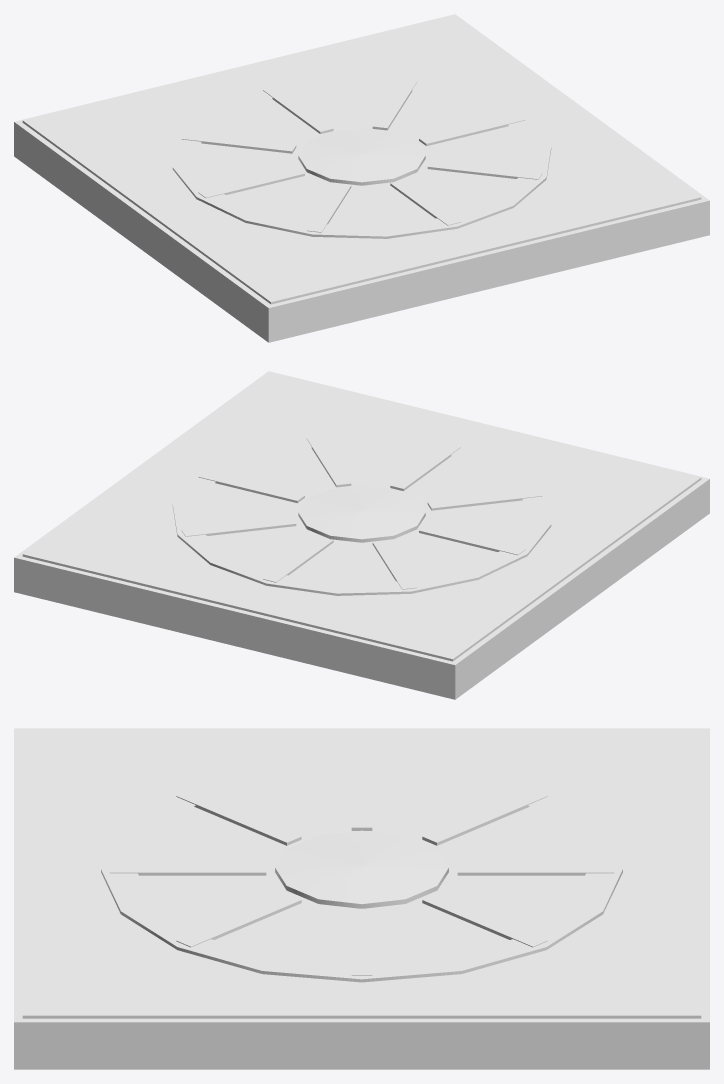
File: court.glb
The picture shows the model from 3 angles, top to bottom: view 1: azimuth 30°, elevation 25°; view 2: azimuth 150°, elevation 25°; view 3: azimuth 270°, elevation 25°; orthographic projection. The views are drawn at different scales.
Parts seen in each view (by area): view 1: Court; view 2: Court; view 3: Court.
Part boxes in pixels (x1,y1,x2,y2): Court: (14, 14, 709, 342); Court: (14, 371, 709, 699); Court: (14, 728, 709, 1069).
Size of the model in its own units: 4 by 0.36 by 4.
1 material, 1 textured.
